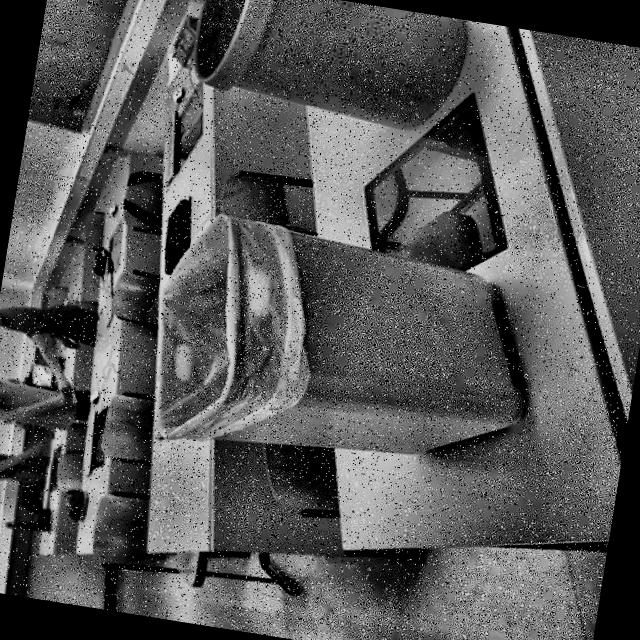Dustbin: (91, 167, 574, 509), (138, 0, 523, 161)
